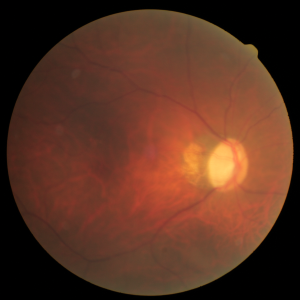glaucoma: (62, 114, 270, 221)
